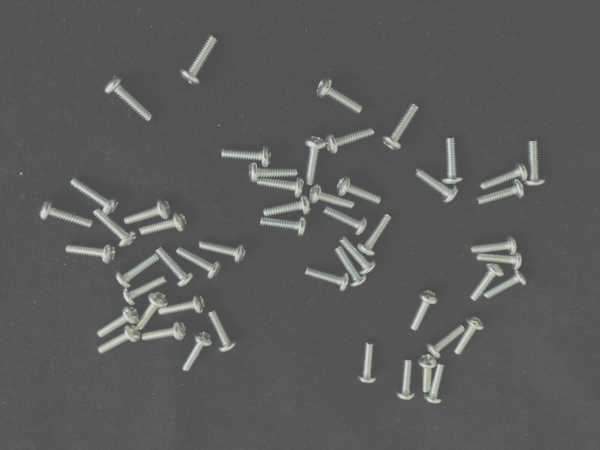shortscrew: (104, 75, 153, 123), (180, 35, 218, 87), (71, 179, 120, 216), (383, 103, 420, 150), (317, 77, 363, 114), (94, 209, 137, 248), (116, 253, 160, 288), (156, 247, 194, 287), (39, 199, 93, 227), (358, 213, 393, 256), (415, 169, 459, 203), (340, 236, 377, 275), (177, 248, 221, 280), (322, 206, 368, 236), (96, 306, 139, 338), (335, 246, 367, 288), (336, 176, 382, 205), (470, 263, 504, 302), (326, 127, 375, 154), (124, 276, 168, 306), (96, 325, 141, 354), (182, 331, 213, 373), (427, 325, 465, 359), (485, 269, 528, 299), (481, 163, 528, 190), (476, 180, 526, 205), (209, 309, 237, 353), (64, 241, 116, 264), (309, 184, 355, 210), (456, 315, 485, 356), (137, 293, 169, 330), (125, 198, 170, 224), (411, 289, 438, 332), (221, 145, 272, 167), (304, 135, 326, 186), (199, 241, 247, 264), (305, 267, 349, 292), (140, 212, 187, 235), (523, 140, 546, 187), (248, 162, 299, 183), (158, 294, 204, 316), (257, 177, 305, 198), (264, 195, 312, 216), (140, 320, 186, 341), (260, 217, 308, 237), (443, 137, 463, 184), (424, 363, 446, 404), (471, 236, 518, 255), (358, 340, 378, 384), (396, 358, 415, 401), (477, 254, 523, 271), (418, 353, 436, 393)
